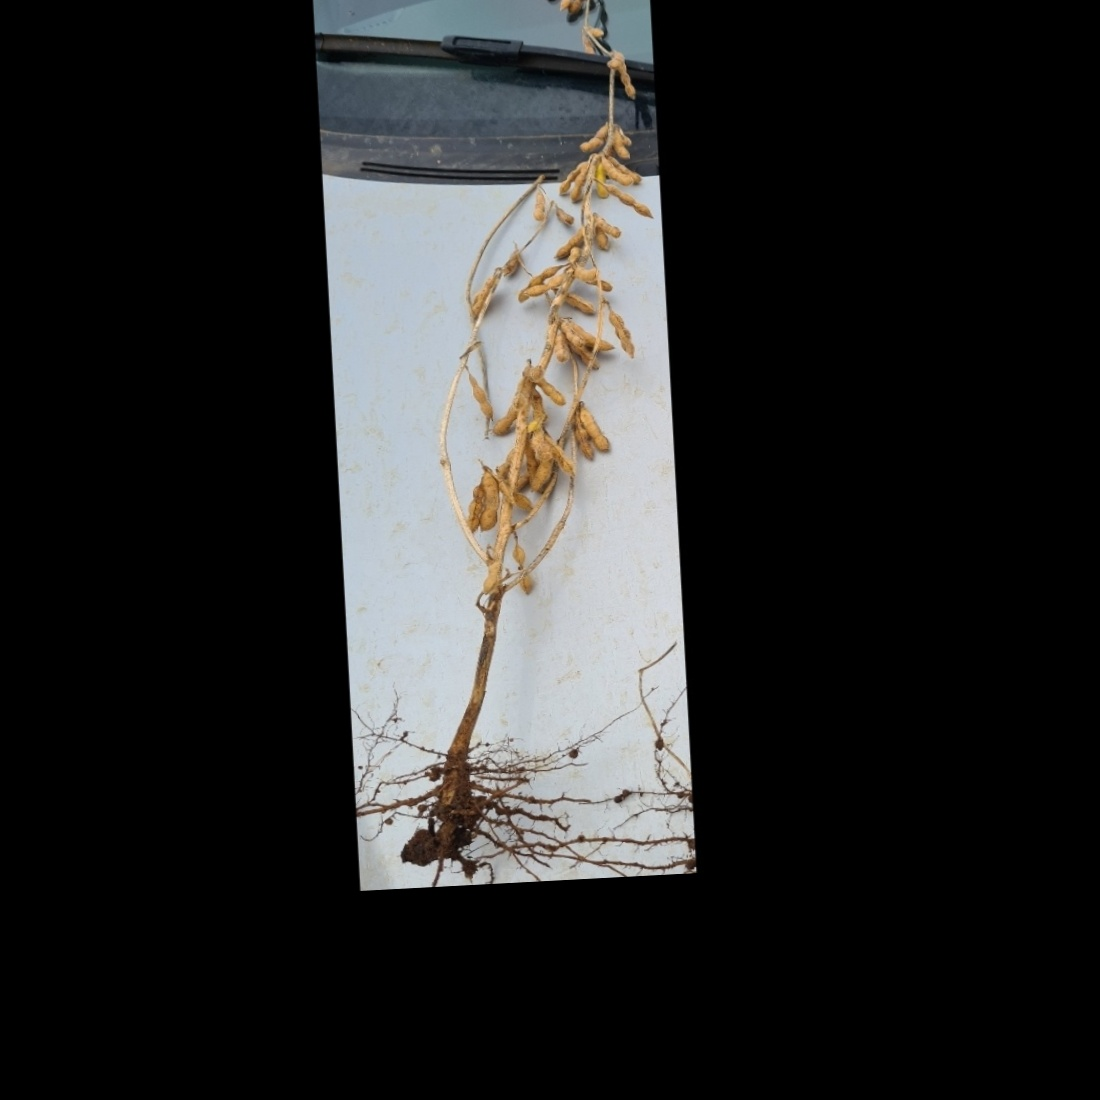pod: (457, 364, 499, 424), (603, 304, 640, 366), (470, 464, 503, 533), (604, 180, 655, 222), (577, 405, 615, 458), (459, 480, 493, 534), (529, 369, 568, 410), (598, 153, 639, 188), (514, 272, 567, 297), (612, 59, 639, 104), (564, 0, 592, 21), (556, 0, 578, 14), (539, 0, 573, 2)
soy: (334, 0, 684, 873)
